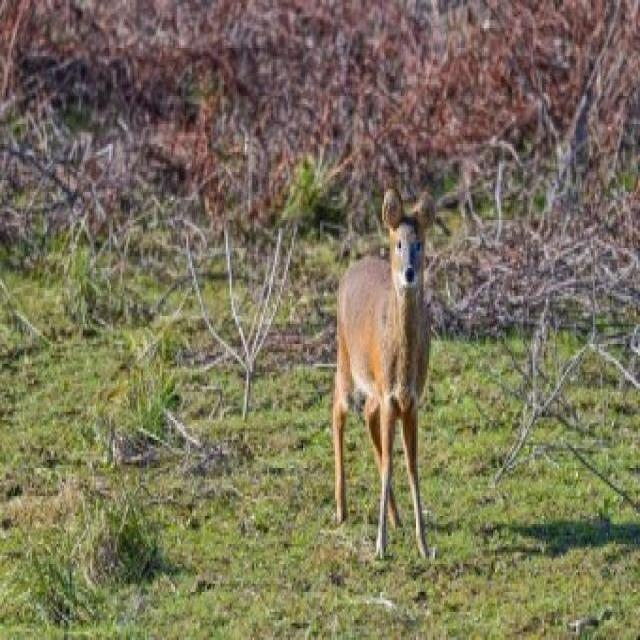deer: (314, 164, 462, 584)
